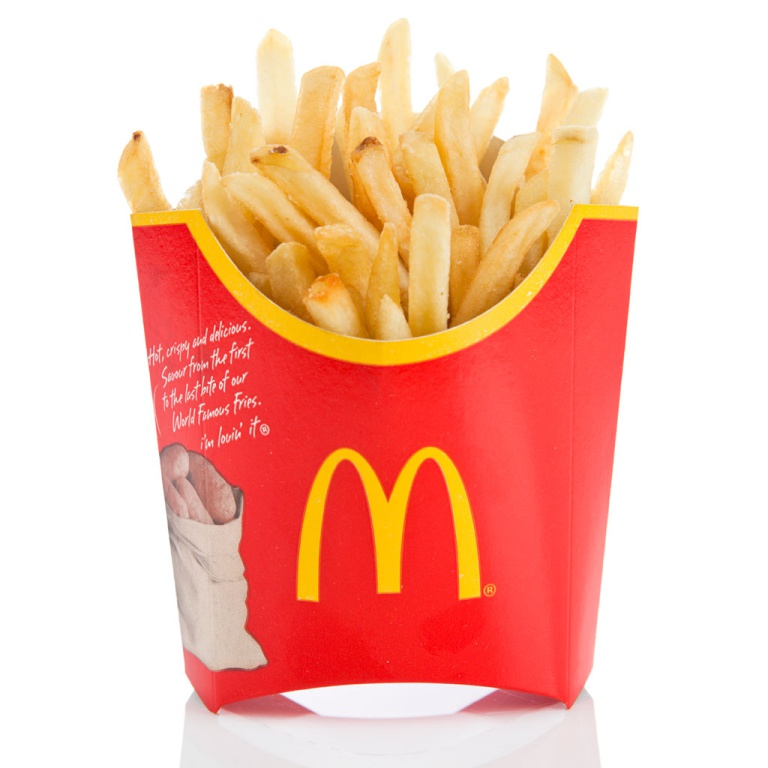mcdonalds: (289, 434, 492, 631)
